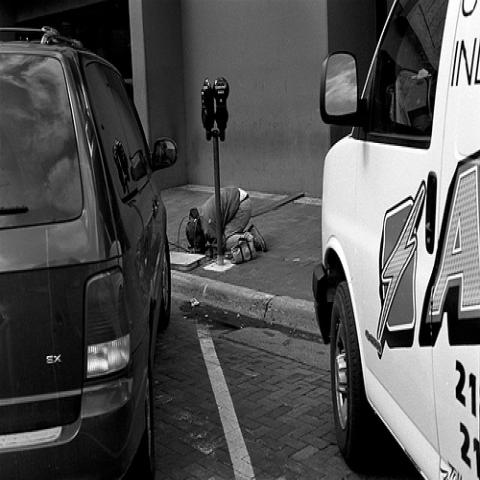car: (0, 25, 176, 465)
truck: (310, 0, 479, 475)
